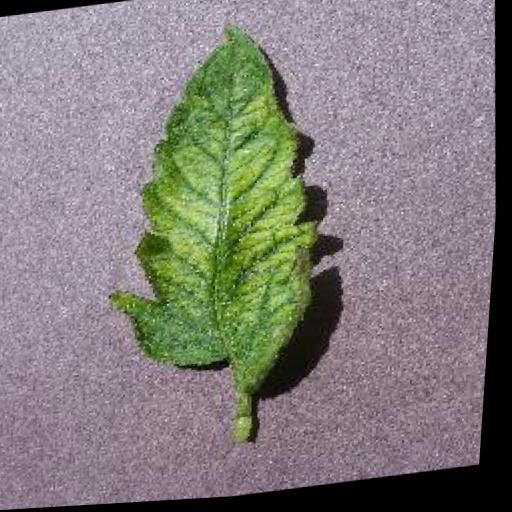Mosaic Virus: (91, 13, 346, 404)
